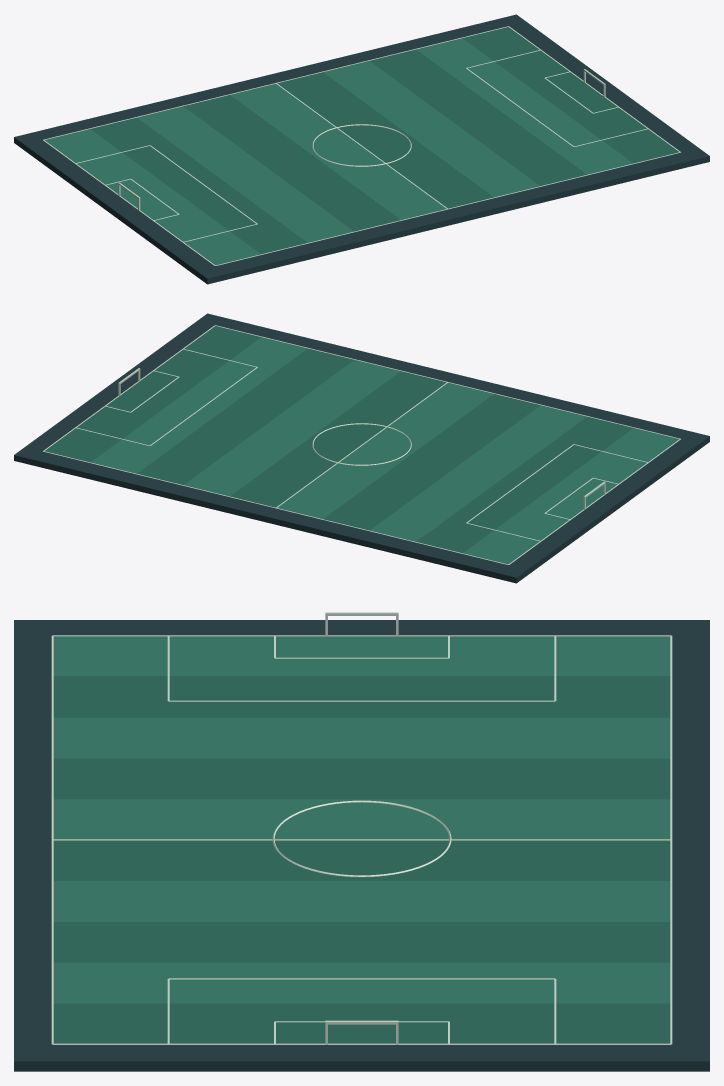
Rendered from field.glb.
The picture shows the model from 3 angles, top to bottom: view 1: azimuth 30°, elevation 25°; view 2: azimuth 150°, elevation 25°; view 3: azimuth 270°, elevation 25°; orthographic projection. The views are drawn at different scales.
Visible parts, largest first — view 1: PlayingSurface, TurfBand, Plinth, Markings; view 2: PlayingSurface, TurfBand, Plinth, Markings; view 3: TurfBand, PlayingSurface, Plinth, Markings.
Boxes of the visible parts, x1,y1,x2,y2 form: PlayingSurface: (90,27,679,254); TurfBand: (44,38,633,265); Plinth: (14,14,709,284); Markings: (43,26,680,265); PlayingSurface: (44,326,633,553); TurfBand: (90,337,679,564); Plinth: (14,313,709,583); Markings: (43,325,680,564); TurfBand: (53,636,670,1003); PlayingSurface: (53,677,670,1043); Plinth: (14,620,709,1071); Markings: (51,612,672,1044).
Size of the model in its own units: 108 by 3.9 by 72.
